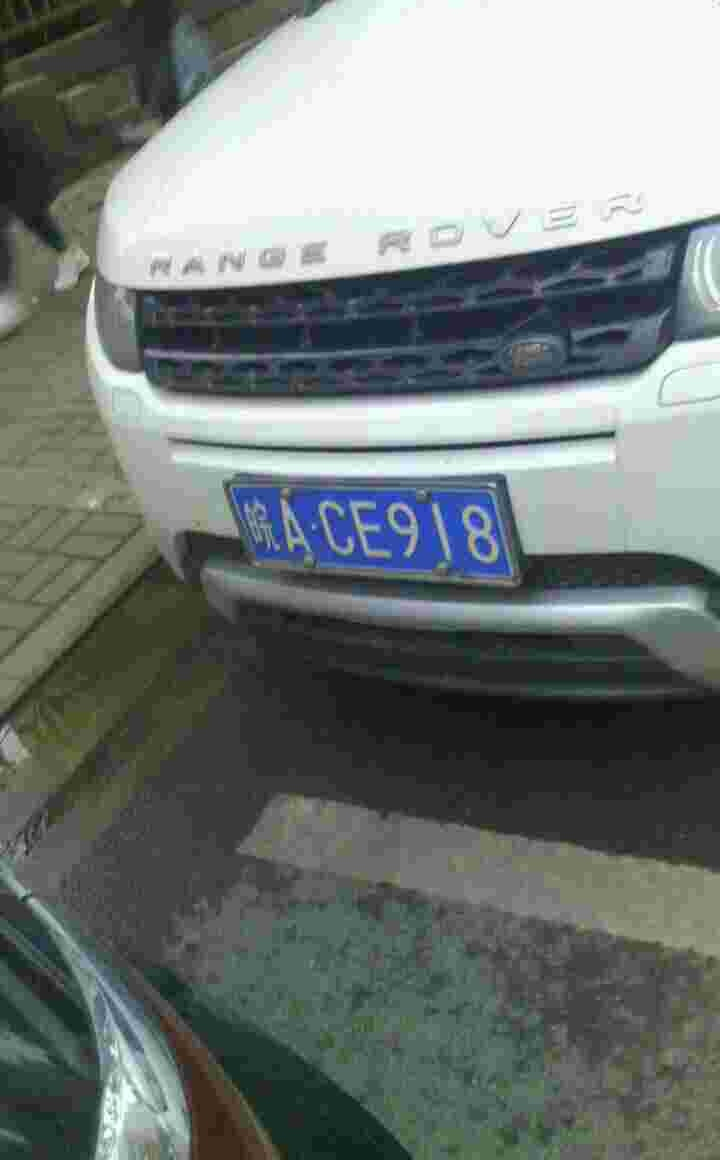license_plate: (234, 485, 509, 570)
